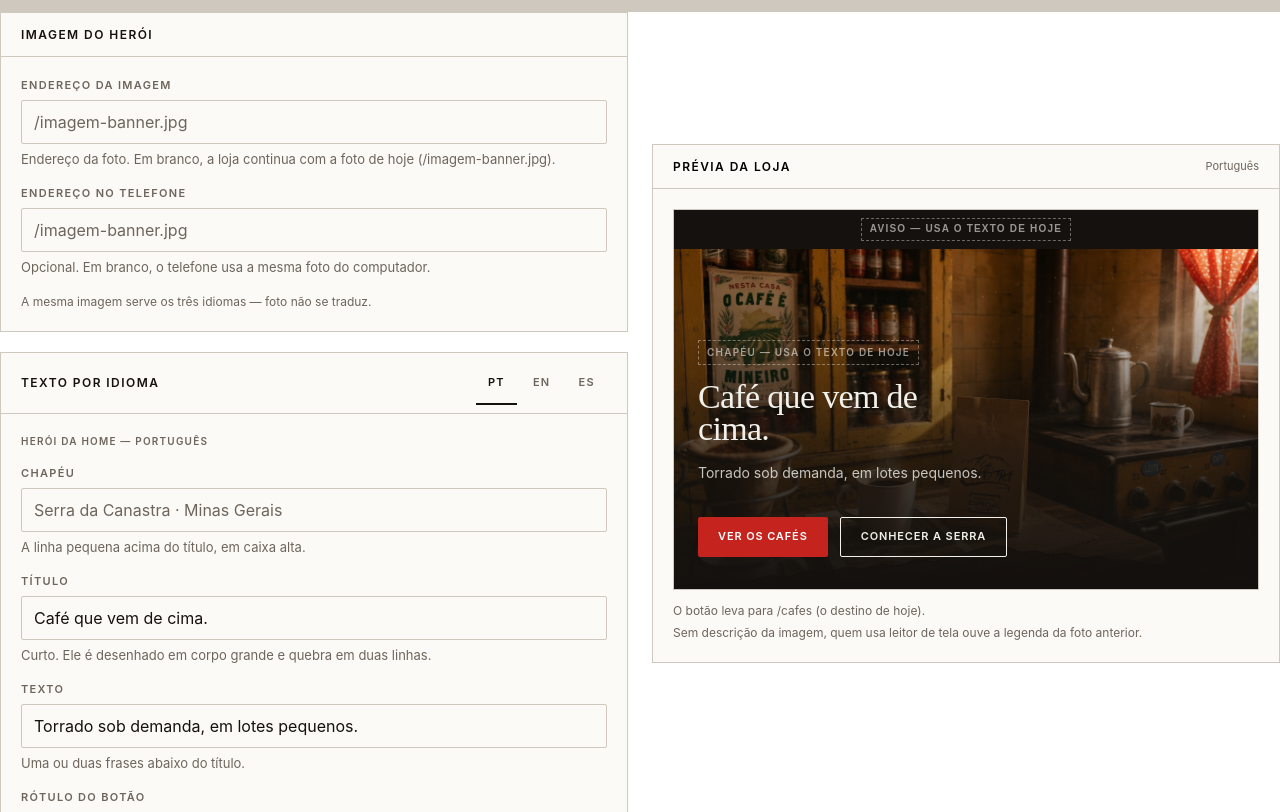
Test case: o salvamento › mostra a frase que o servidor devolveu, e não perde o que foi digitado
Type "Colheita" into the field labelled "Chapéu".
click(314, 510); type("Colheita")  # box 21,488 -> 607,532
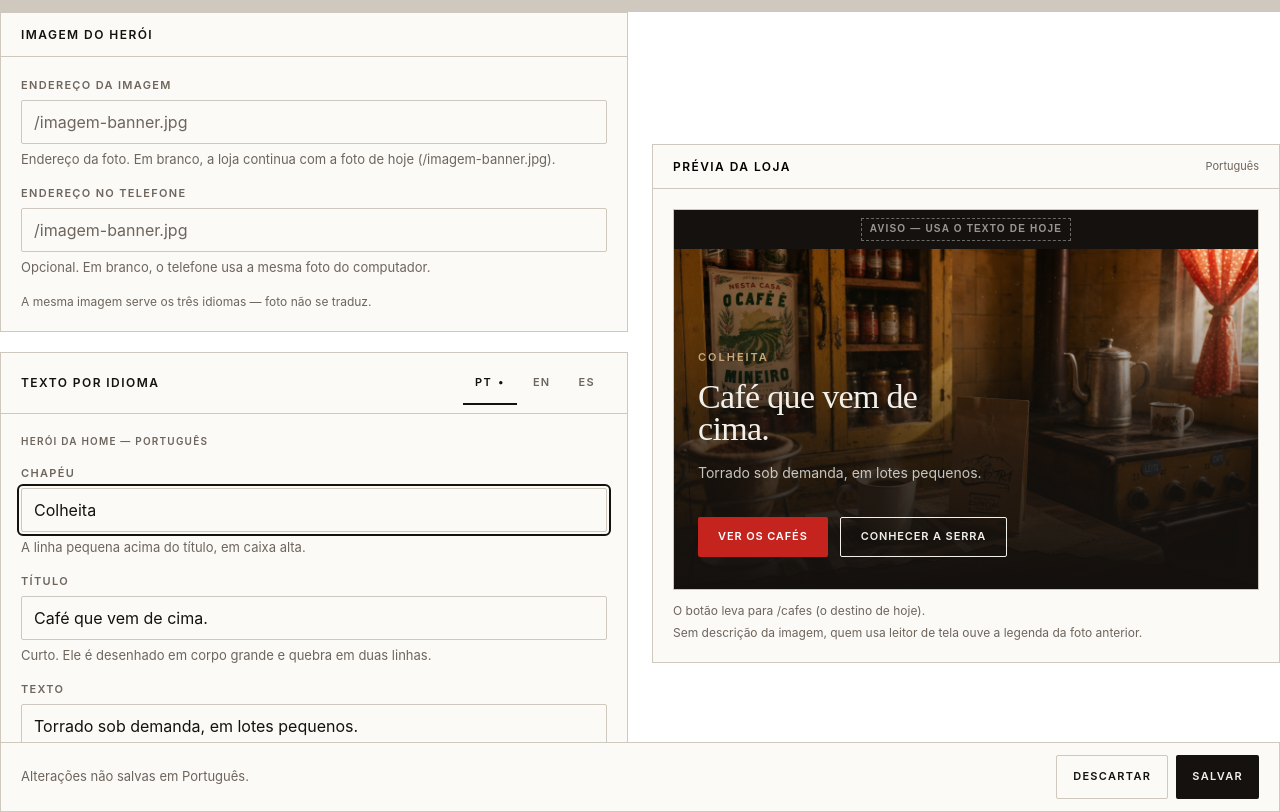
Click the button "Salvar".
click(1218, 777)  # box 1176,755 -> 1259,799
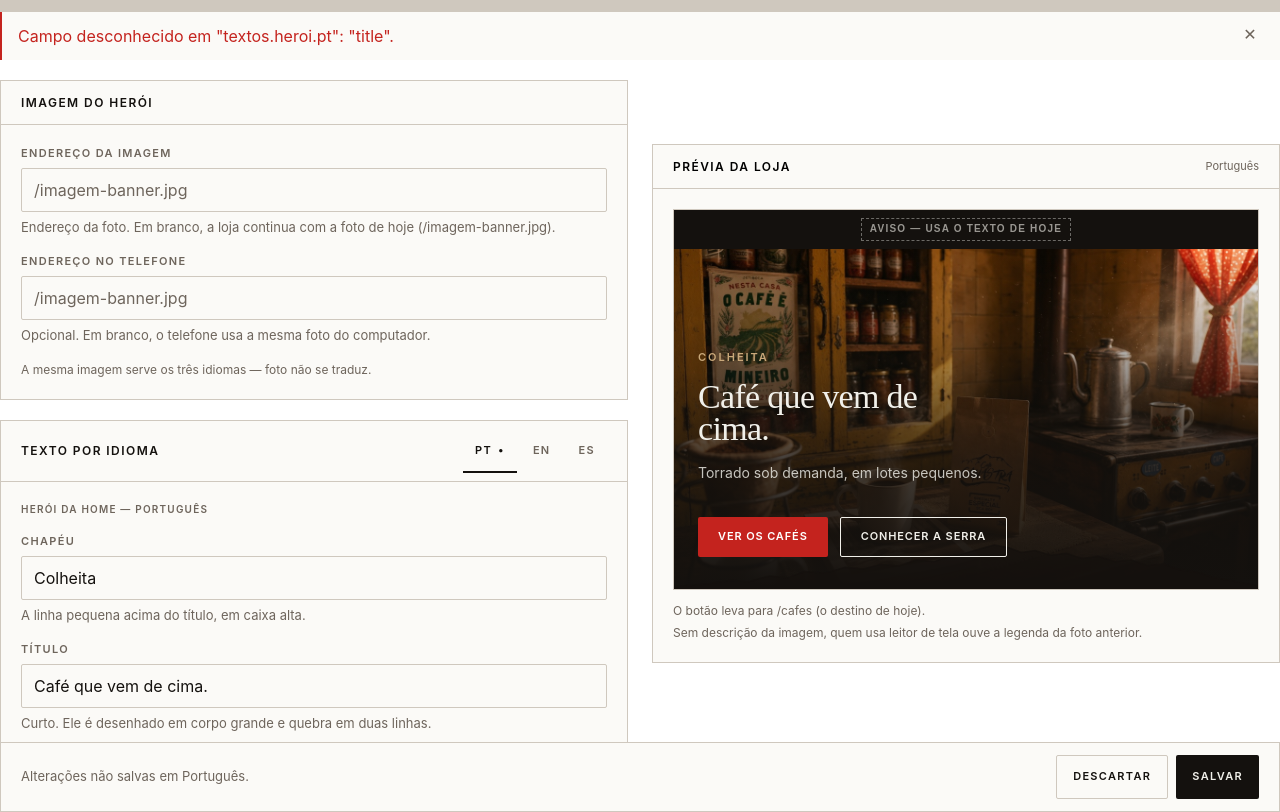
Expected: the button "Salvar" is shown, 1176,755 -> 1259,799
Expected: the text "Campo desconhecido em \"textos.heroi.pt\": \"title\"." is shown, 18,26 -> 394,46
